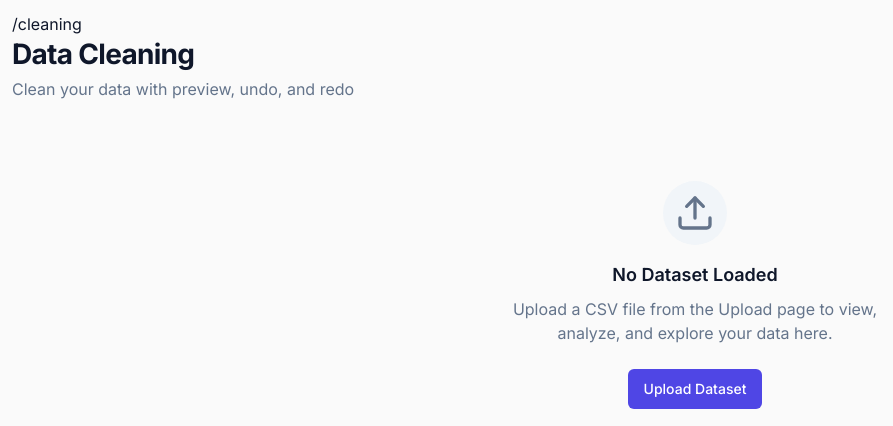
Scenario: Cleaning page › without a dataset, the empty-state button really goes to the upload page
Step 1. Click the button "Upload Dataset" → x=695, y=389, box x1=628 y1=369 x2=762 y2=409
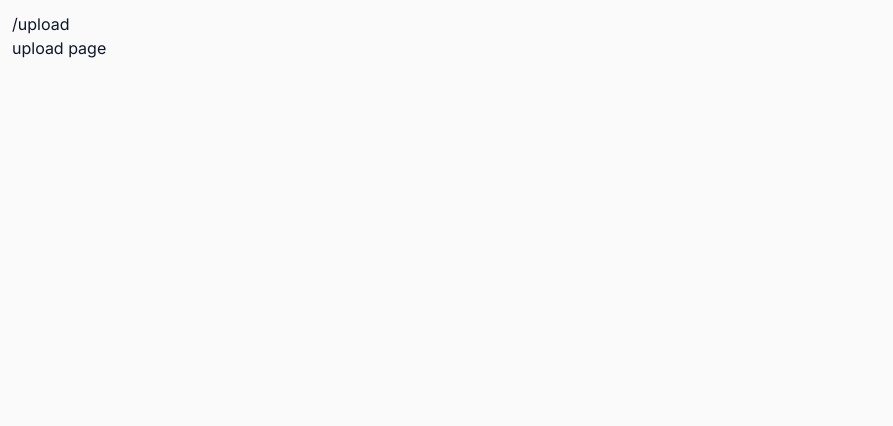
Result: the text "upload page" is shown at x1=12 y1=38 x2=106 y2=58
